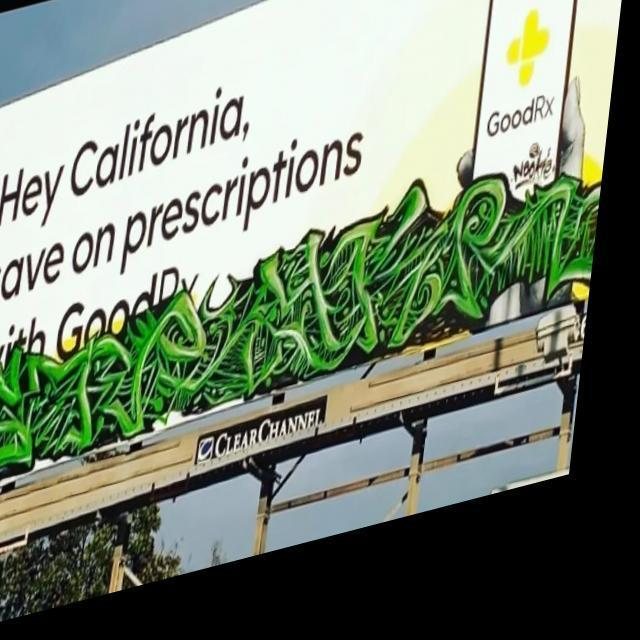-: (0, 164, 614, 506)
